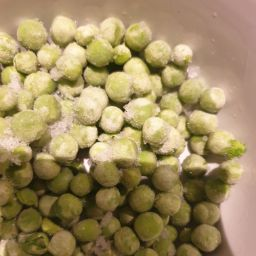Peas: (2, 11, 245, 256), (160, 78, 247, 216), (110, 34, 193, 156), (11, 16, 89, 138), (12, 145, 83, 250)
